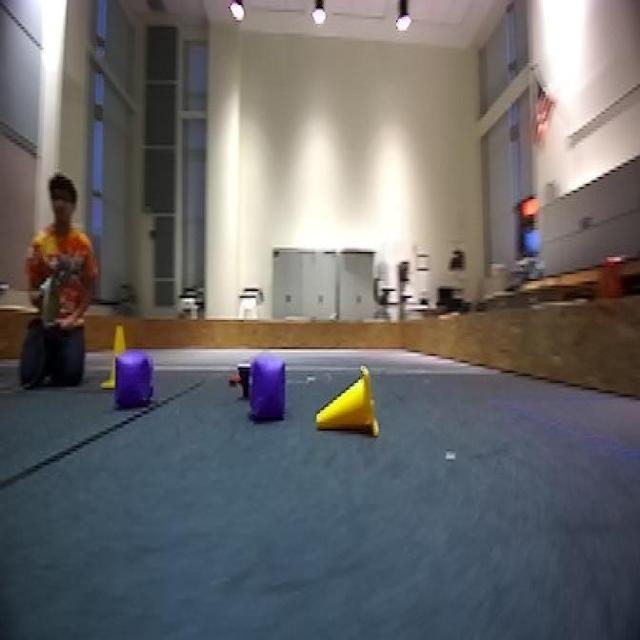frc_cone: (312, 359, 382, 448), (102, 320, 138, 391)
frc_cube: (244, 354, 288, 424), (112, 347, 146, 414)
